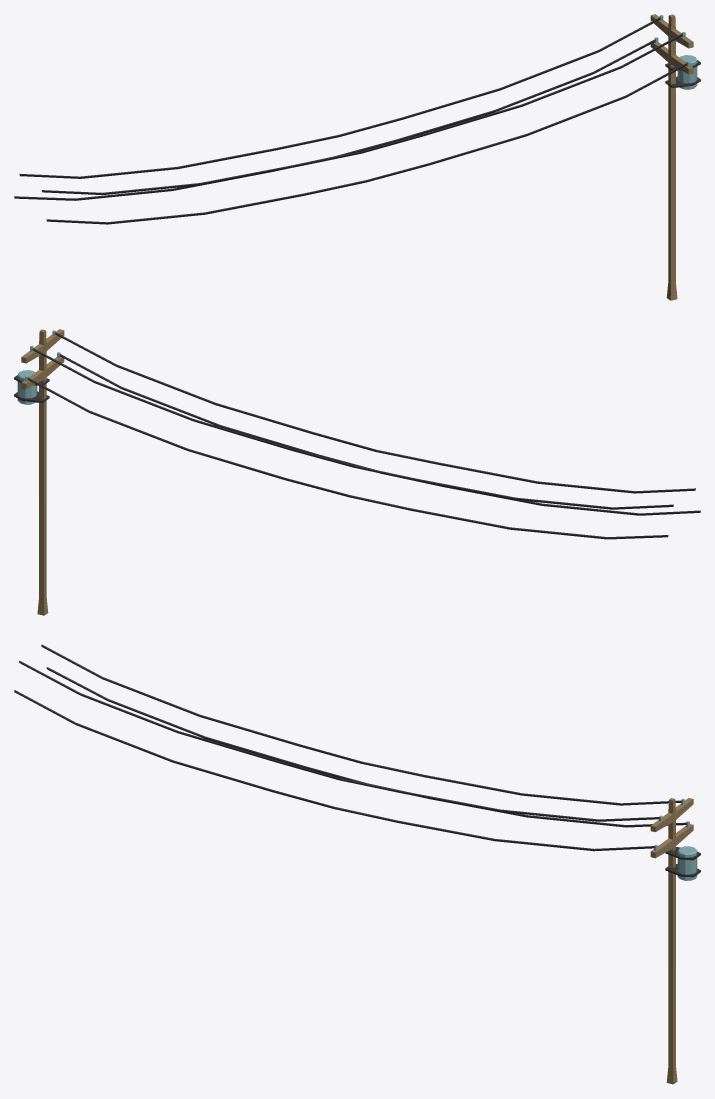
The model's file is model_polytope_powerlines03.fbx.
3 renders of one model, top to bottom at view 1: azimuth 30°, elevation 25°; view 2: azimuth 150°, elevation 25°; view 3: azimuth 330°, elevation 25°, orthographic.
Parts seen in each view (by area): view 1: model_polytope_powerlines03; view 2: model_polytope_powerlines03; view 3: model_polytope_powerlines03.
Boxes of the visible parts, <box> form: model_polytope_powerlines03: <box>14,14,700,300</box>; model_polytope_powerlines03: <box>14,329,700,615</box>; model_polytope_powerlines03: <box>14,644,700,1084</box>.
Size of the model in its own units: 1860 by 754 by 184.
1 material, 1 textured.
